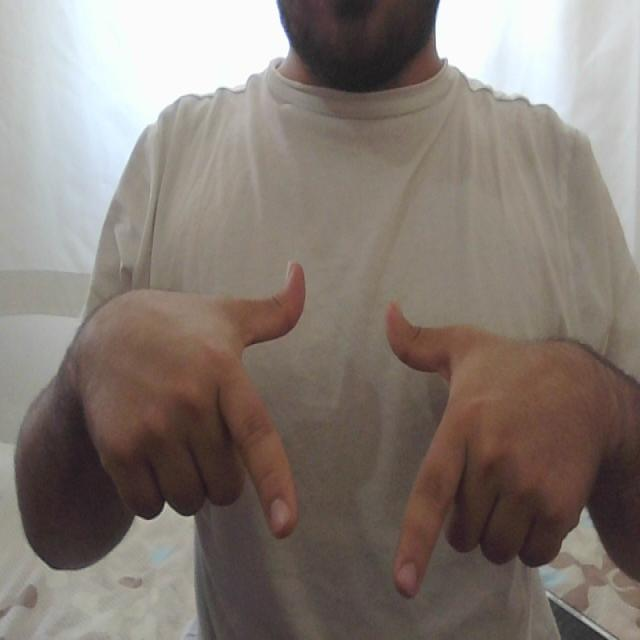Nerede: (208, 250, 487, 609)
